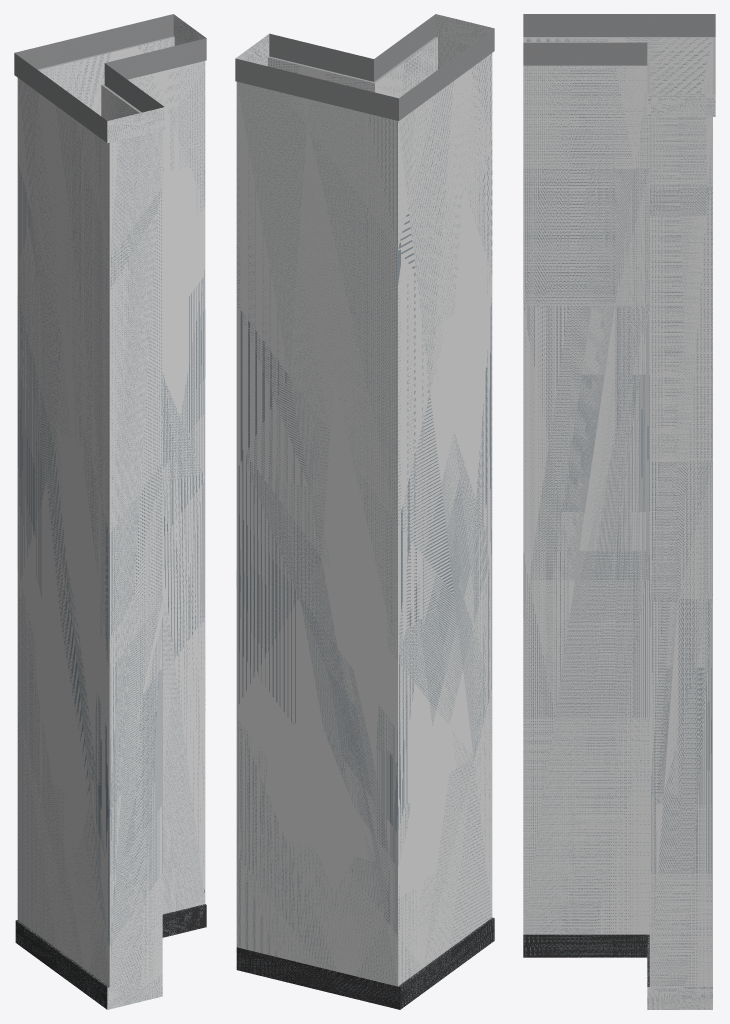
The model's file is Corner_ds_plinth_050x050x025x4.dae.
3 renders of one model, left to right at view 1: azimuth 30°, elevation 25°; view 2: azimuth 150°, elevation 25°; view 3: azimuth 270°, elevation 25°, orthographic. The views are drawn at different scales.
Visible parts, largest first — view 1: group_0 (×5); view 2: group_0 (×4); view 3: group_0 (×4).
Boxes of the visible parts, <box> form: group_0 (×5): <box>14,14,206,1009</box>; group_0 (×4): <box>235,14,494,1009</box>; group_0 (×4): <box>523,14,715,1009</box>.
Size of the model in its own units: 29.53 by 29.92 by 157.
